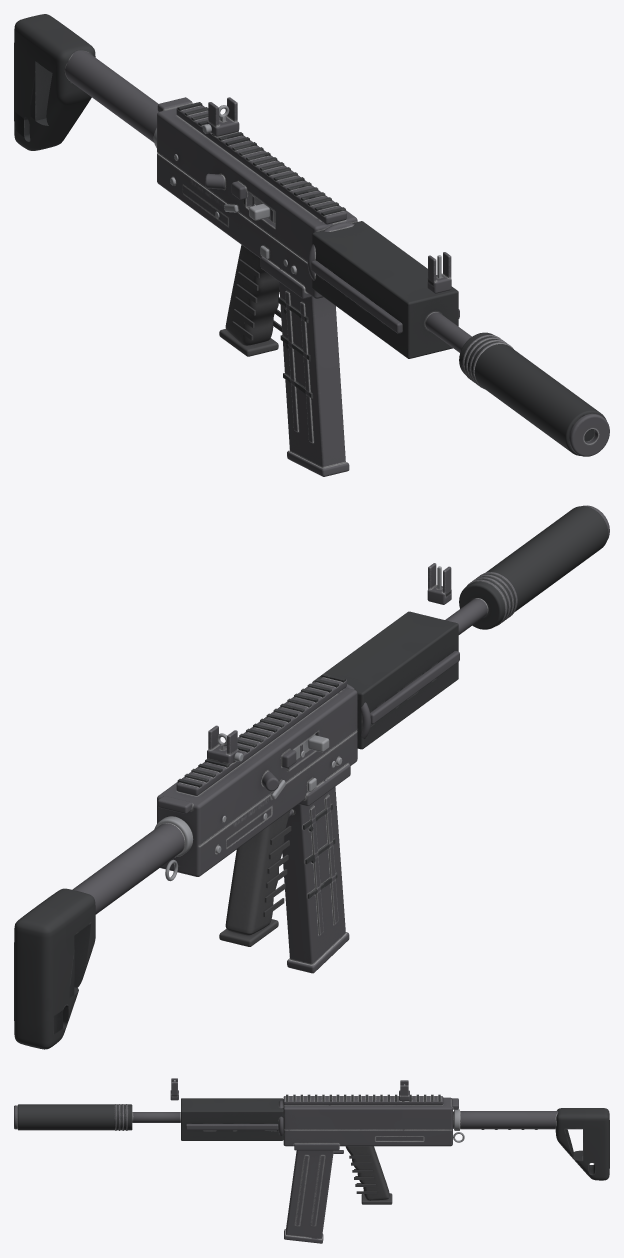
3 renders of one model, top to bottom at view 1: azimuth 30°, elevation 25°; view 2: azimuth 150°, elevation 25°; view 3: azimuth 270°, elevation 25°, orthographic. The views are drawn at different scales.
Visible parts, largest first — view 1: m4a1s; view 2: m4a1s; view 3: m4a1s.
Part boxes in pixels (bbox=[...]): m4a1s: bbox=[14, 14, 609, 476]; m4a1s: bbox=[14, 505, 609, 1049]; m4a1s: bbox=[14, 1078, 609, 1243].
Size of the model in its own units: 0.07 by 0.2924 by 0.9859.
